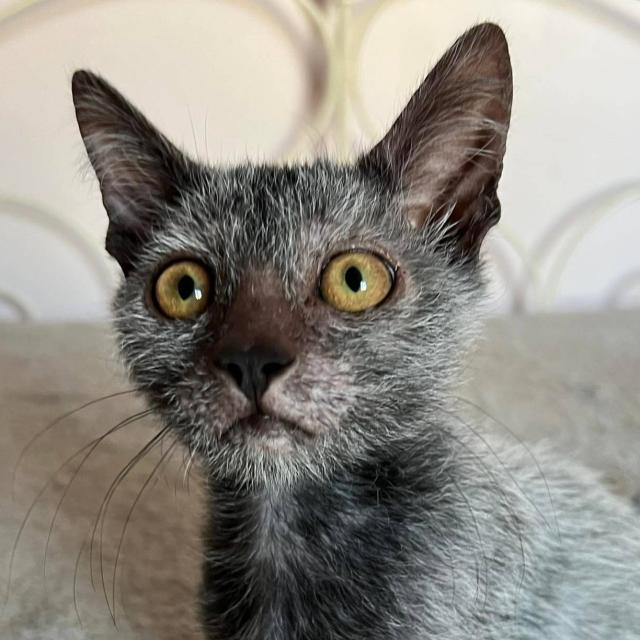Lykoi: (64, 16, 640, 640)
